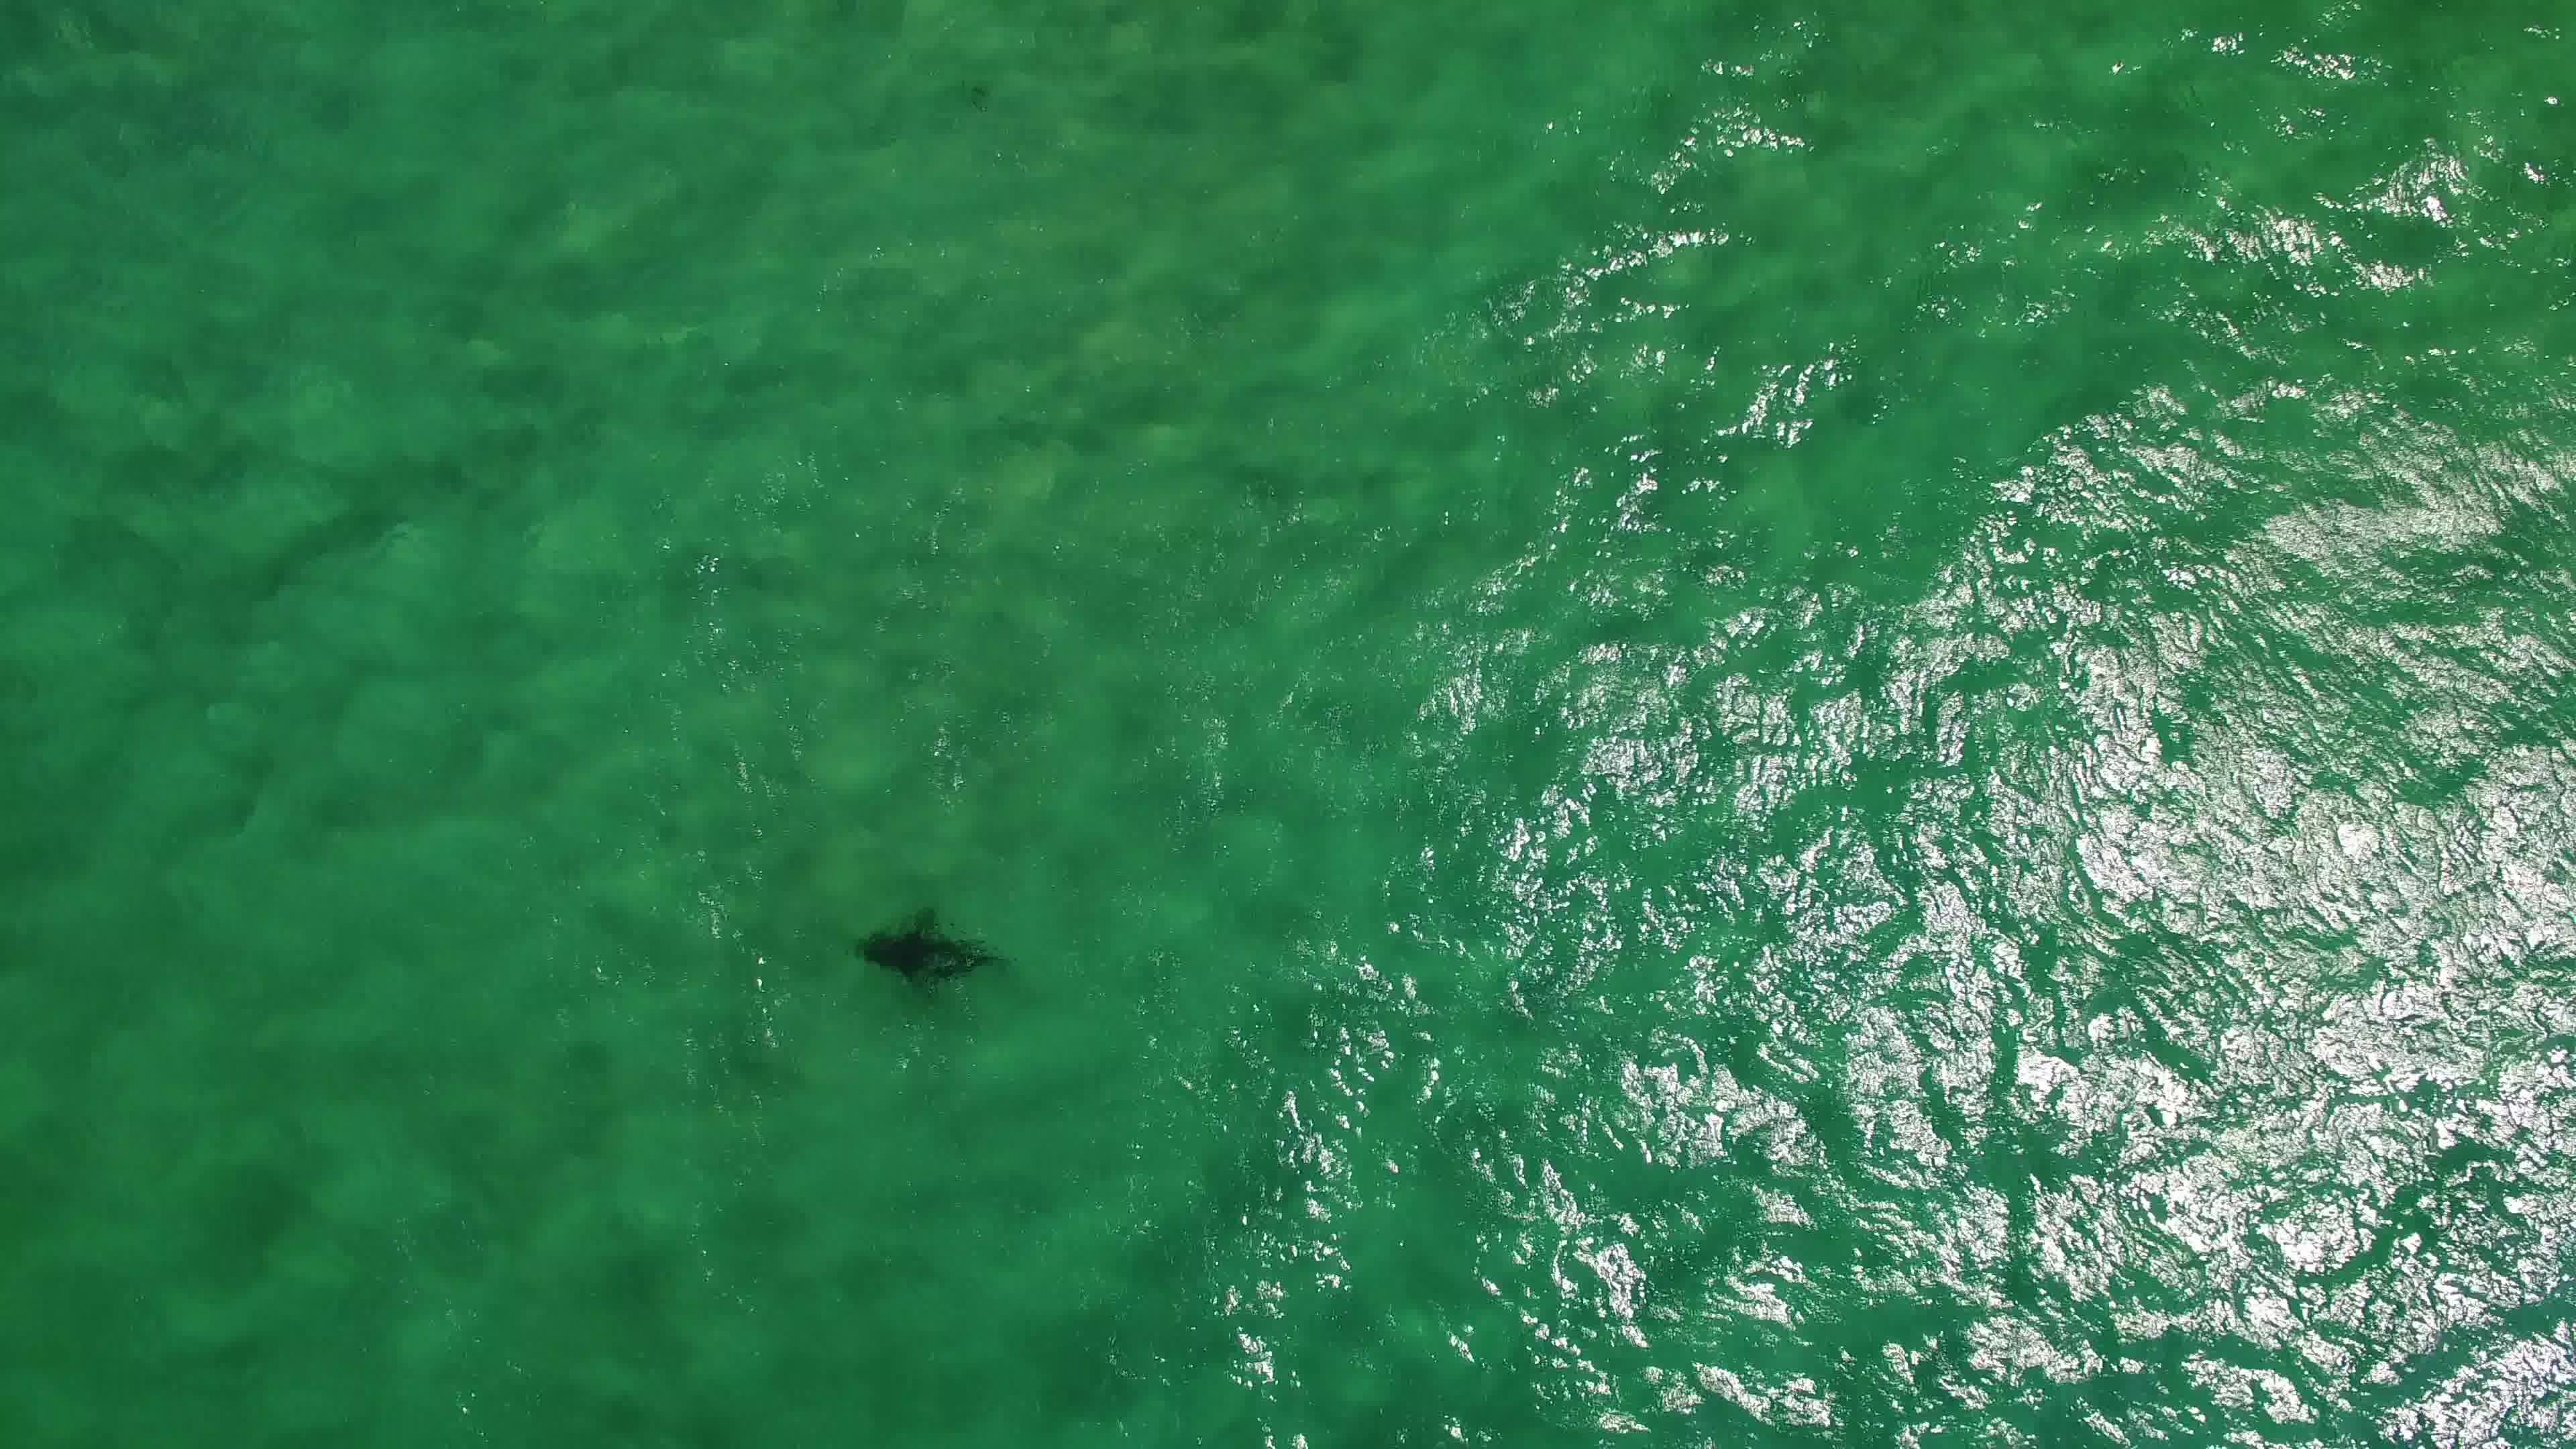shark: (840, 902, 1019, 998)
